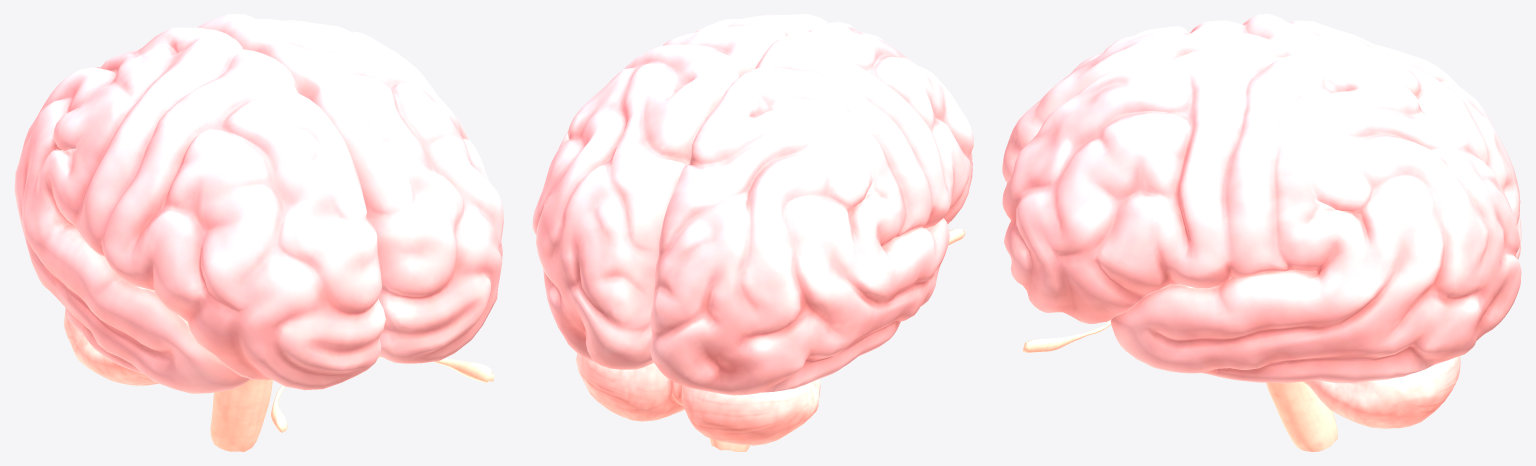
File: sistemaNerviosoCentral-001.glb
3 views of the same model, side by side, from view 1: azimuth 30°, elevation 25°; view 2: azimuth 150°, elevation 25°; view 3: azimuth 270°, elevation 25° (orthographic). The views are drawn at different scales.
Visible parts, largest first — view 1: cerebro_der, cerebro_izq, talloCerebral, cerebelo; view 2: cerebro_der, cerebro_izq, cerebelo, talloCerebral; view 3: cerebro_izq, cerebro_der, cerebelo, talloCerebral.
Boxes of the visible parts, left/top/right/bottom form: cerebro_der: left=14, top=27, right=385, bottom=393; cerebro_izq: left=197, top=14, right=503, bottom=363; talloCerebral: left=210, top=356, right=494, bottom=451; cerebelo: left=63, top=310, right=158, bottom=385; cerebro_der: left=650, top=22, right=973, bottom=395; cerebro_izq: left=532, top=14, right=828, bottom=369; cerebelo: left=575, top=353, right=820, bottom=445; talloCerebral: left=709, top=229, right=965, bottom=451; cerebro_izq: left=1002, top=47, right=1521, bottom=383; cerebro_der: left=1002, top=14, right=1521, bottom=259; cerebelo: left=1302, top=356, right=1460, bottom=428; talloCerebral: left=1023, top=320, right=1337, bottom=451.
Size of the model in its own units: 0.0939 by 0.1003 by 0.1167.
Materials: 3 (3 with a texture image).
